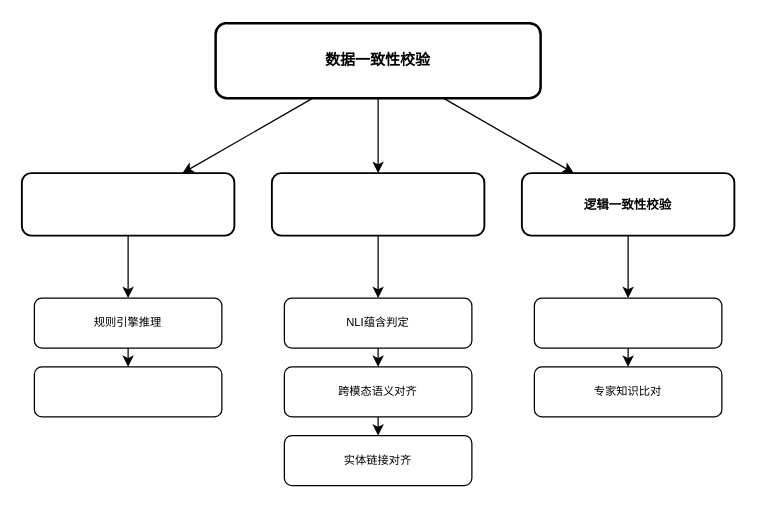
The diagram is 758 pixels wide and 508 high, and some of its shapes have lost their labels. Here are the shapes that lost their labels. From the top down, the box of each, then its label:
(20, 172, 235, 236): 语法一致性校验
(270, 172, 485, 236): 语义一致性校验
(533, 297, 722, 348): SMT约束求解
(33, 366, 222, 417): 结构模板比对
